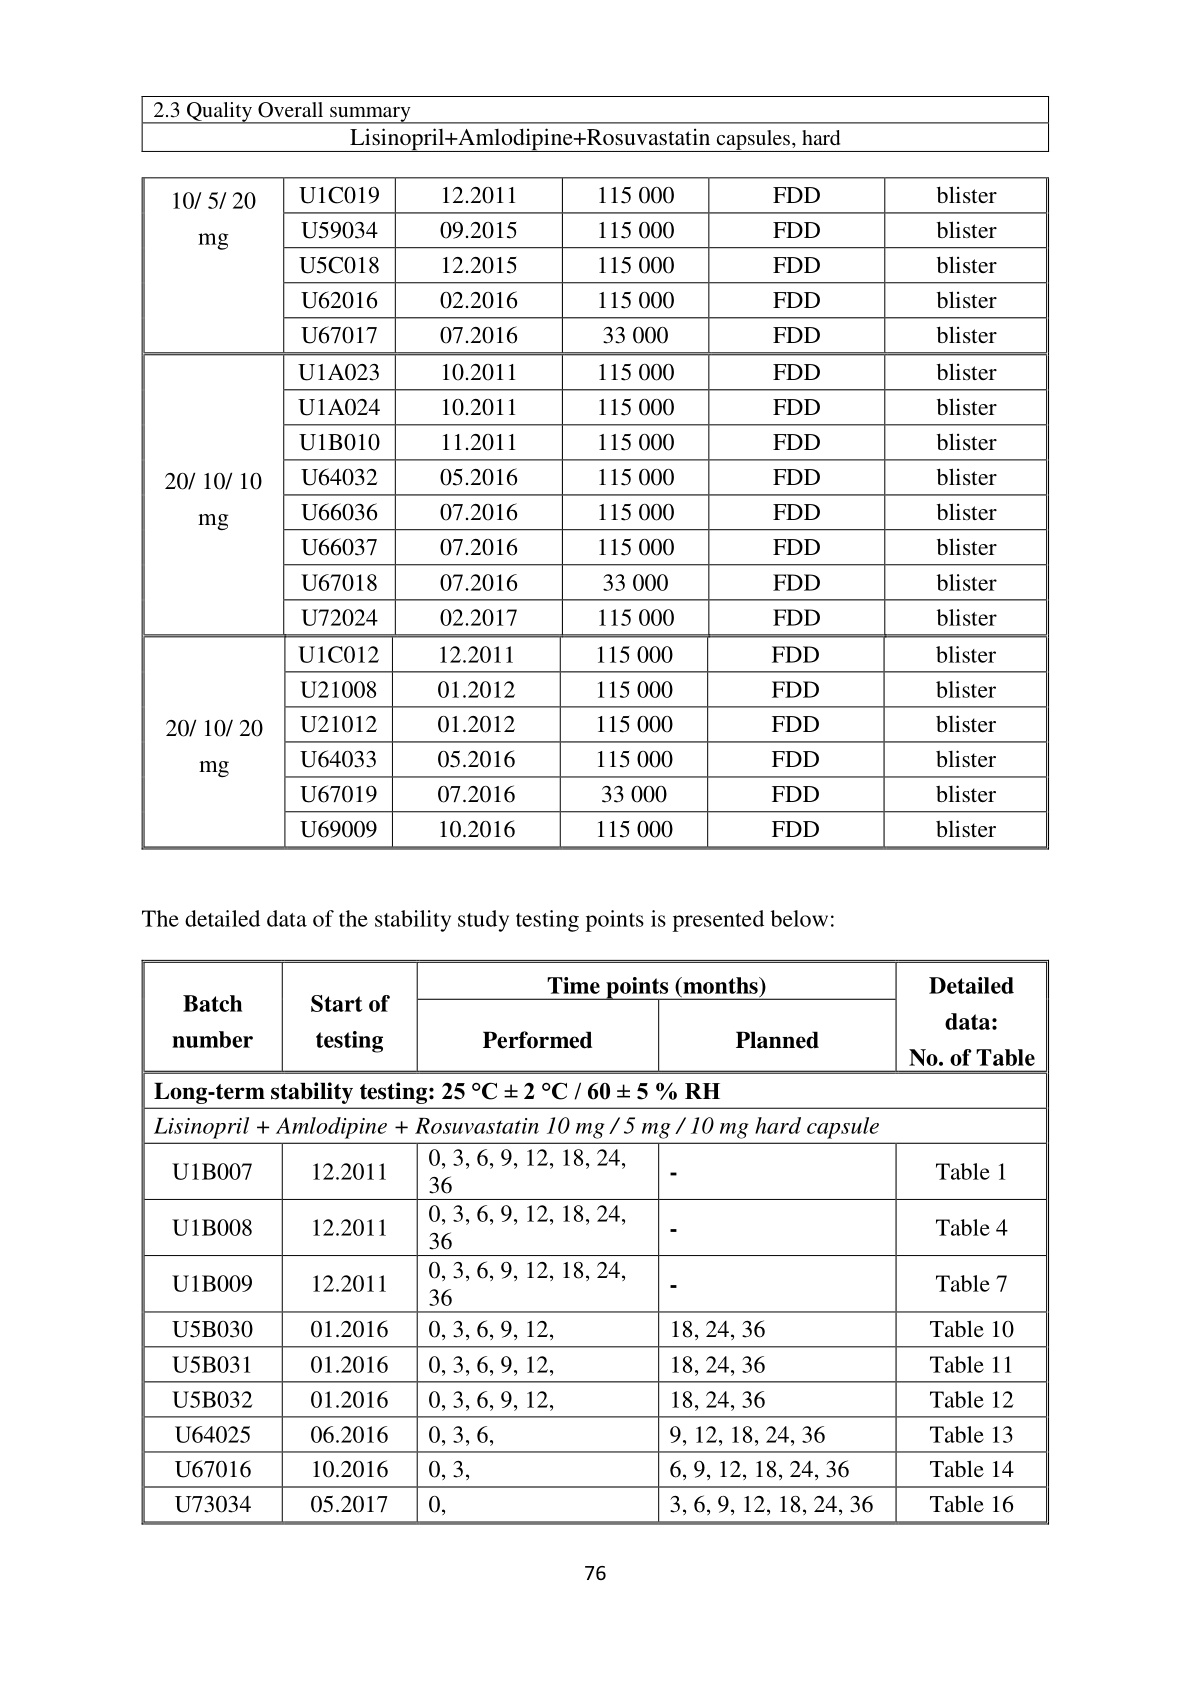full_lined: (140, 95, 1051, 153)
merged_cells: (140, 177, 1049, 850), (140, 959, 1049, 1526)
